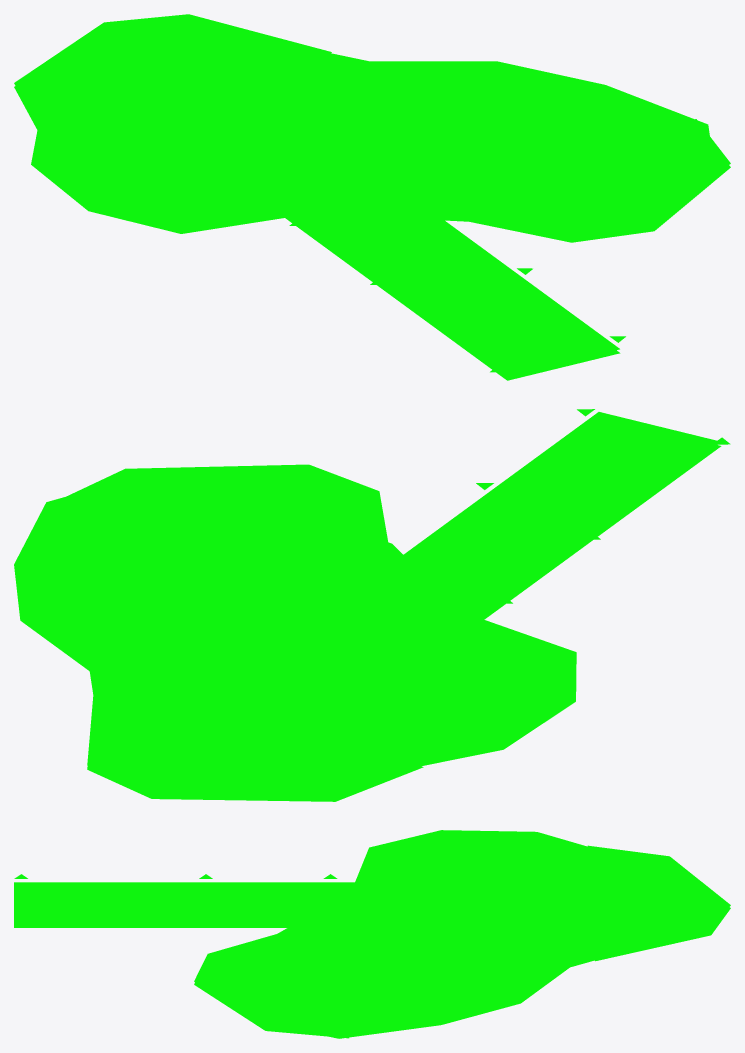
The model's file is s02b_na1-floor.glb.
3 renders of one model, top to bottom at view 1: azimuth 30°, elevation 25°; view 2: azimuth 150°, elevation 25°; view 3: azimuth 270°, elevation 25°, orthographic. The views are drawn at different scales.
Visible parts, largest first — view 1: collision_floor-colonly; view 2: collision_floor-colonly; view 3: collision_floor-colonly.
Boxes of the visible parts, x1,y1,x2,y2 form: collision_floor-colonly: (14, 14, 730, 380); collision_floor-colonly: (14, 409, 730, 801); collision_floor-colonly: (14, 830, 730, 1038).
Size of the model in its own units: 29.36 by 0.416 by 42.62.
